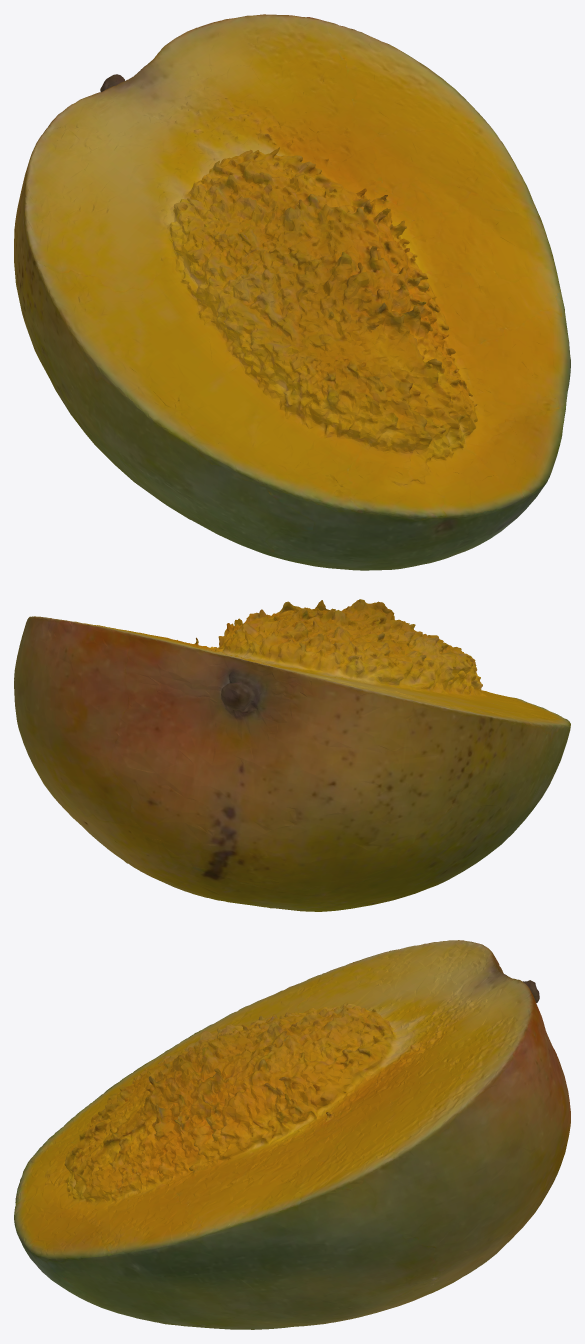
The model's file is mango-kern.glb.
3 views of the same model, one above another, from view 1: azimuth 30°, elevation 25°; view 2: azimuth 150°, elevation 25°; view 3: azimuth 270°, elevation 25° (orthographic). The views are drawn at different scales.
Visible parts, largest first — view 1: Object_2; view 2: Object_2; view 3: Object_2.
Part boxes in pixels (bbox=[...]): Object_2: bbox=[14, 14, 570, 570]; Object_2: bbox=[14, 599, 570, 911]; Object_2: bbox=[14, 940, 570, 1329].
Bounding box in the file's own units: 95.1 × 70.43 × 107.
1 material, 1 textured.
